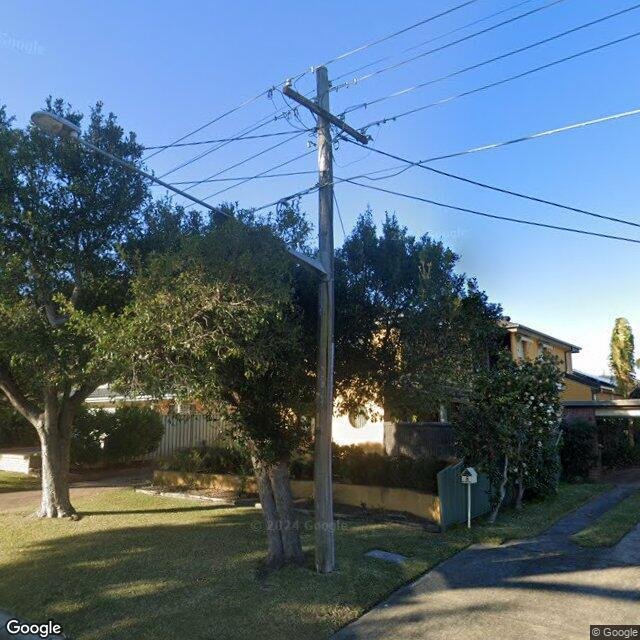crossarm: (281, 86, 368, 146)
streetlight: (30, 109, 331, 279)
timber-pole: (316, 66, 336, 576)
